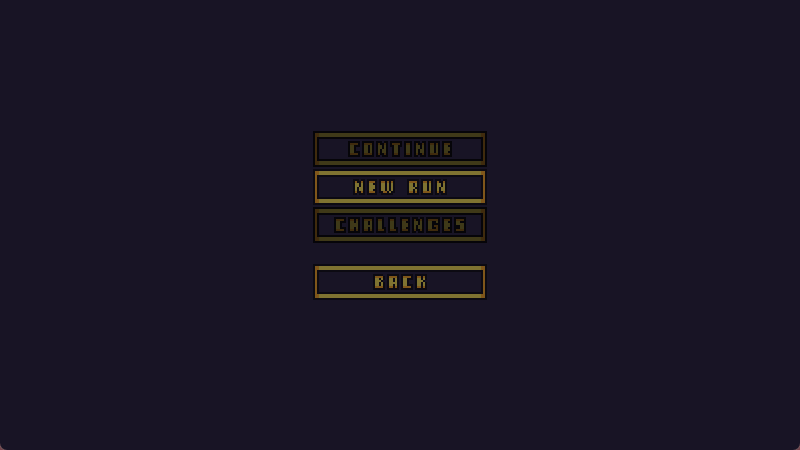start_screen_new_run: (315, 171, 485, 202)
